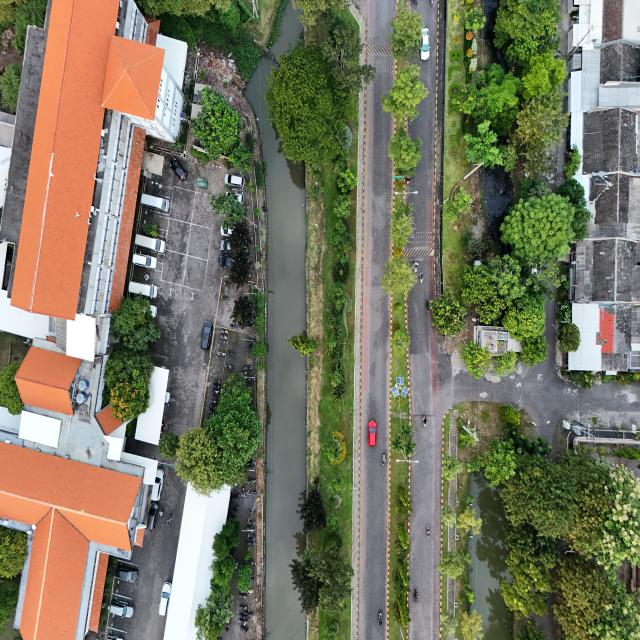Tree: (499, 194, 574, 264), (110, 292, 162, 352), (211, 190, 260, 228), (429, 292, 464, 338), (380, 255, 417, 296), (390, 421, 418, 462), (391, 196, 413, 248), (438, 549, 465, 581), (287, 333, 319, 356), (457, 506, 482, 535), (558, 322, 581, 353), (392, 593, 412, 628), (460, 611, 484, 640), (442, 452, 464, 482), (392, 556, 412, 587), (439, 606, 459, 637), (390, 330, 412, 357), (337, 169, 358, 194), (498, 404, 520, 427), (440, 503, 457, 531), (394, 522, 410, 550), (321, 439, 340, 462), (236, 565, 252, 592), (334, 194, 352, 218), (394, 483, 410, 509), (324, 620, 338, 640), (330, 473, 342, 493)
